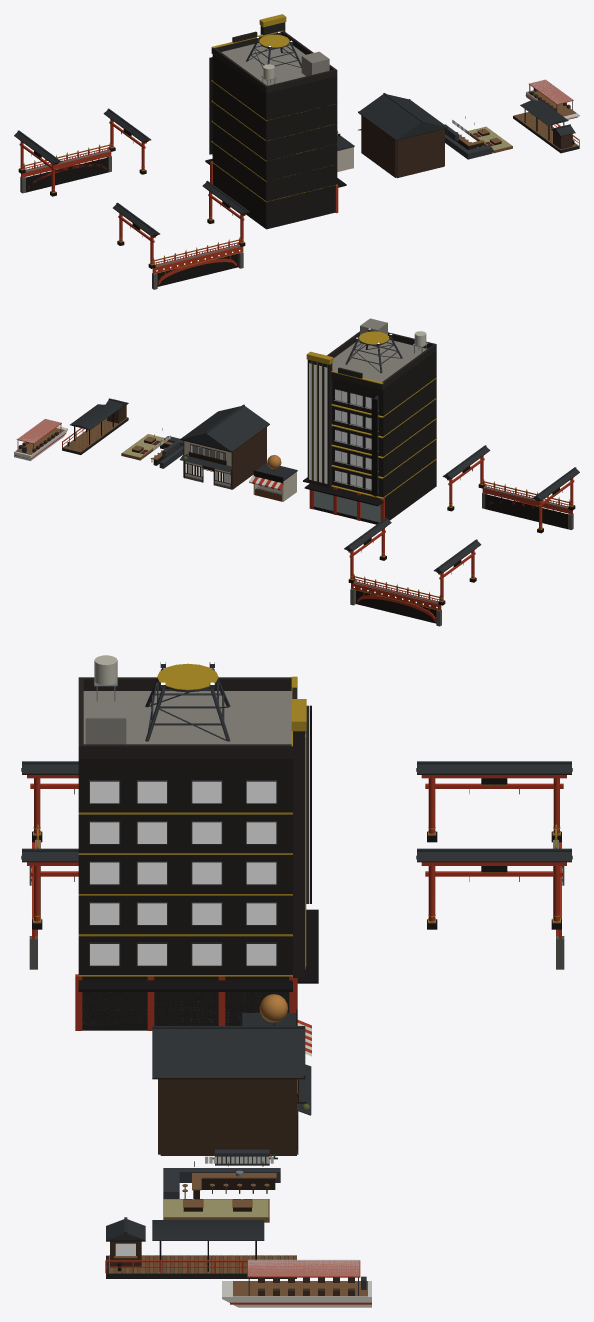
The model's file is hyotan.glb.
The picture shows the model from 3 angles, top to bottom: view 1: azimuth 30°, elevation 25°; view 2: azimuth 150°, elevation 25°; view 3: azimuth 270°, elevation 25°; orthographic projection. The views are drawn at different scales.
Visible parts, largest first — view 1: hyotan_kaikan_body, hyotan_bridge_body, hyotan_izakaya_body, hyotan_pier_body, hyotan_izakaya_in_body, hyotan_boat_body, hyotan_takoyaki_body; view 2: hyotan_kaikan_body, hyotan_bridge_body, hyotan_izakaya_body, hyotan_pier_body, hyotan_takoyaki_body, hyotan_boat_body, hyotan_izakaya_in_body; view 3: hyotan_kaikan_body, hyotan_izakaya_body, hyotan_bridge_body, hyotan_pier_body, hyotan_boat_body, hyotan_izakaya_in_body, hyotan_takoyaki_body.
Part boxes in pixels (x1,y1,x2,y2): hyotan_kaikan_body: (205,14,346,229); hyotan_bridge_body: (14,108,249,289); hyotan_izakaya_body: (358,93,447,178); hyotan_pier_body: (513,100,579,153); hyotan_izakaya_in_body: (444,116,512,159); hyotan_boat_body: (525,79,579,119); hyotan_takoyaki_body: (337,130,354,171); hyotan_kaikan_body: (303,318,436,524); hyotan_bridge_body: (344,445,579,626); hyotan_izakaya_body: (179,404,269,489); hyotan_pier_body: (62,398,128,454); hyotan_takoyaki_body: (249,455,297,501); hyotan_boat_body: (14,418,67,460); hyotan_izakaya_in_body: (121,428,183,468); hyotan_kaikan_body: (75,655,318,1030); hyotan_izakaya_body: (152,1026,311,1155); hyotan_bridge_body: (21,761,572,969); hyotan_pier_body: (105,1217,296,1278); hyotan_boat_body: (222,1259,371,1307); hyotan_izakaya_in_body: (163,1149,280,1222); hyotan_takoyaki_body: (242,994,311,1056).
Size of the model in its own units: 81.05 by 29.52 by 40.4.
